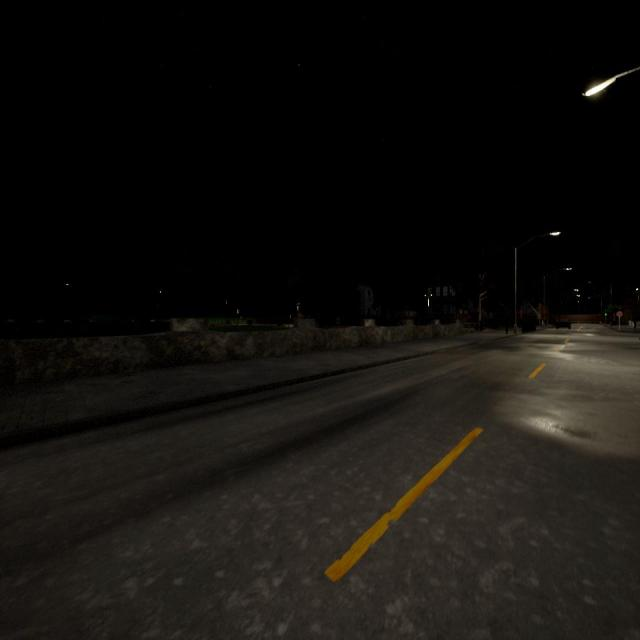Traffic_Signs: (616, 311, 623, 317)
Vehicle: (555, 316, 572, 330)
traffic_light: (604, 311, 607, 317)
